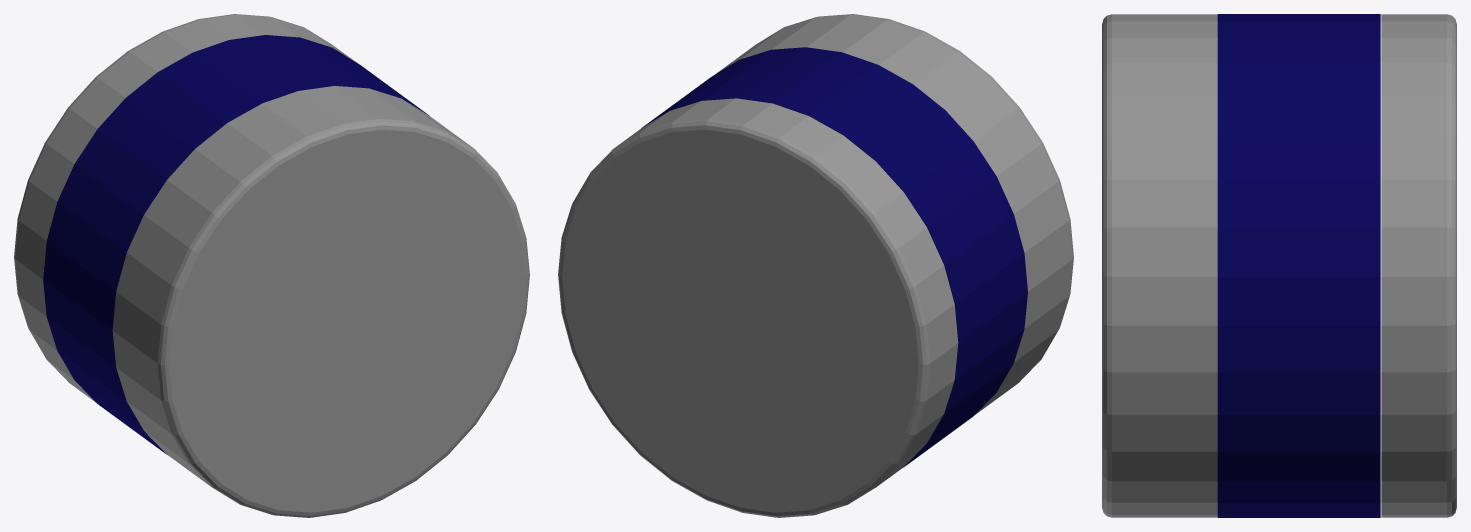
The model's file is velodyne_vlp.obj.
3 views of the same model, side by side, from view 1: azimuth 30°, elevation 25°; view 2: azimuth 150°, elevation 25°; view 3: azimuth 270°, elevation 25° (orthographic). The views are drawn at different scales.
Visible parts, largest first — view 1: Cylinder.003, Cylinder.002, Cylinder.001; view 2: Cylinder.001, Cylinder.002, Cylinder.003; view 3: Cylinder.002, Cylinder.003, Cylinder.001.
Part boxes in pixels (<box>): Cylinder.003: <box>112,86,529,517</box>; Cylinder.002: <box>43,35,428,454</box>; Cylinder.001: <box>14,14,356,402</box>; Cylinder.001: <box>558,98,958,517</box>; Cylinder.002: <box>641,47,1027,466</box>; Cylinder.003: <box>715,14,1073,414</box>; Cylinder.002: <box>1217,14,1380,517</box>; Cylinder.003: <box>1102,14,1217,517</box>; Cylinder.001: <box>1381,14,1456,517</box>.
Bounding box in the file's own units: 0.1031 × 0.1031 × 0.0725.
